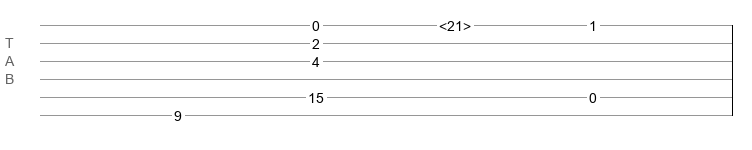0: (312, 18, 320, 28), (589, 90, 597, 100)
1: (589, 18, 597, 28)
15: (308, 90, 324, 100)
2: (312, 36, 320, 46)
4: (312, 54, 320, 64)
9: (174, 108, 182, 118)
harmonic: (439, 18, 471, 28)
